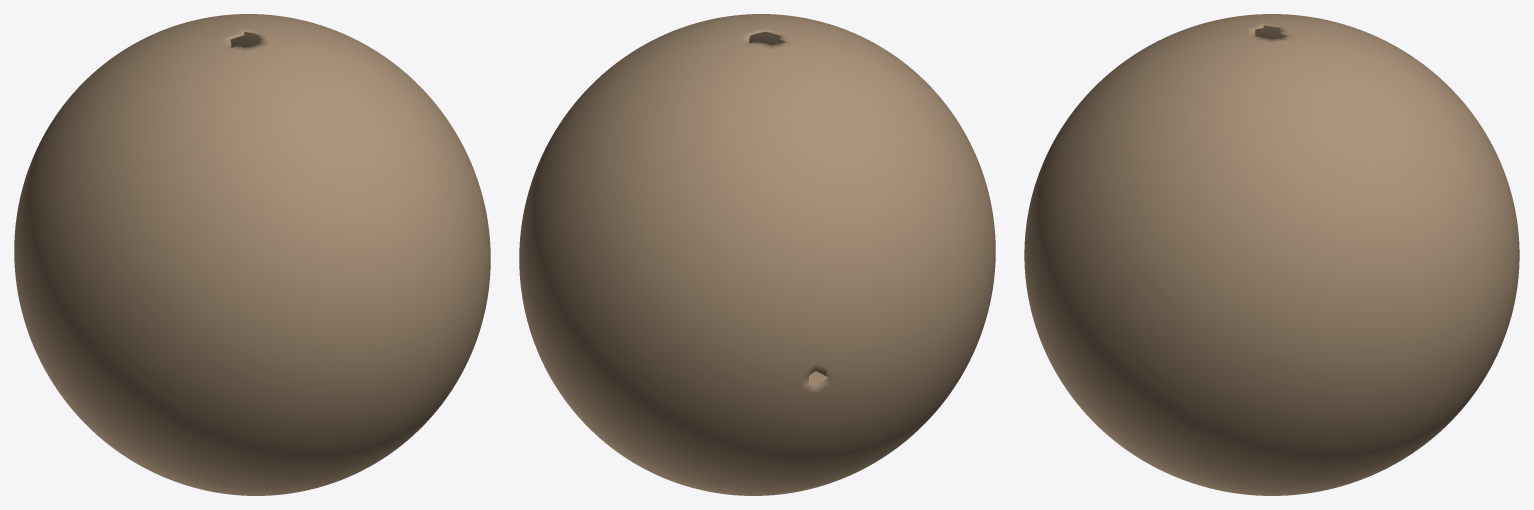
The picture shows the model from 3 angles, left to right: view 1: azimuth 30°, elevation 25°; view 2: azimuth 150°, elevation 25°; view 3: azimuth 270°, elevation 25°; orthographic projection.
Visible parts, largest first — view 1: Sphere; view 2: Sphere; view 3: Sphere.
Boxes of the visible parts, x1,y1,x2,y2 form: Sphere: (14, 14, 490, 495); Sphere: (519, 14, 995, 495); Sphere: (1024, 14, 1519, 495).
Bounding box in the file's own units: 22814 × 23279 × 23838.
